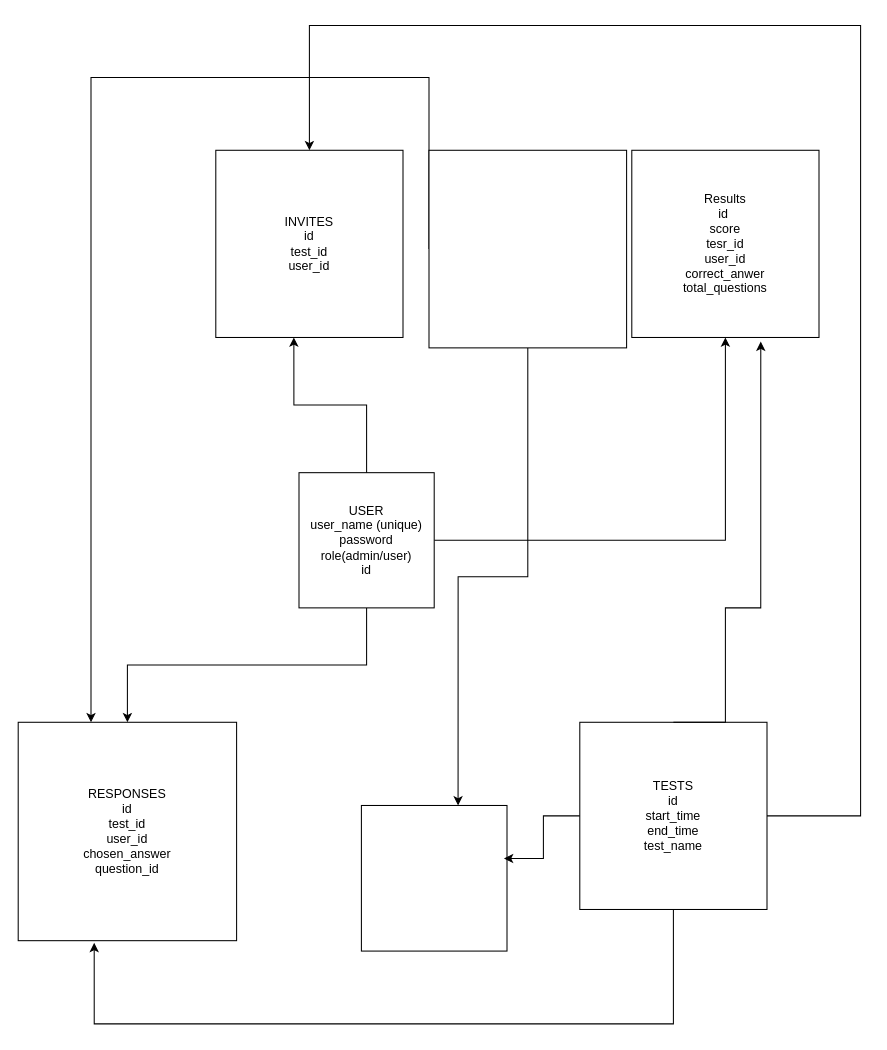
This 887x1050 diagram has some shape labels left out. Here are the shapes that lost their labels. From the top down, the centre of each, then its label:
At point (527, 248): "Quesrtions id description option1 option2 optin3 option4 correct_answer".
At point (433, 877): "TEST_QUESTIONS test_id question_id".
